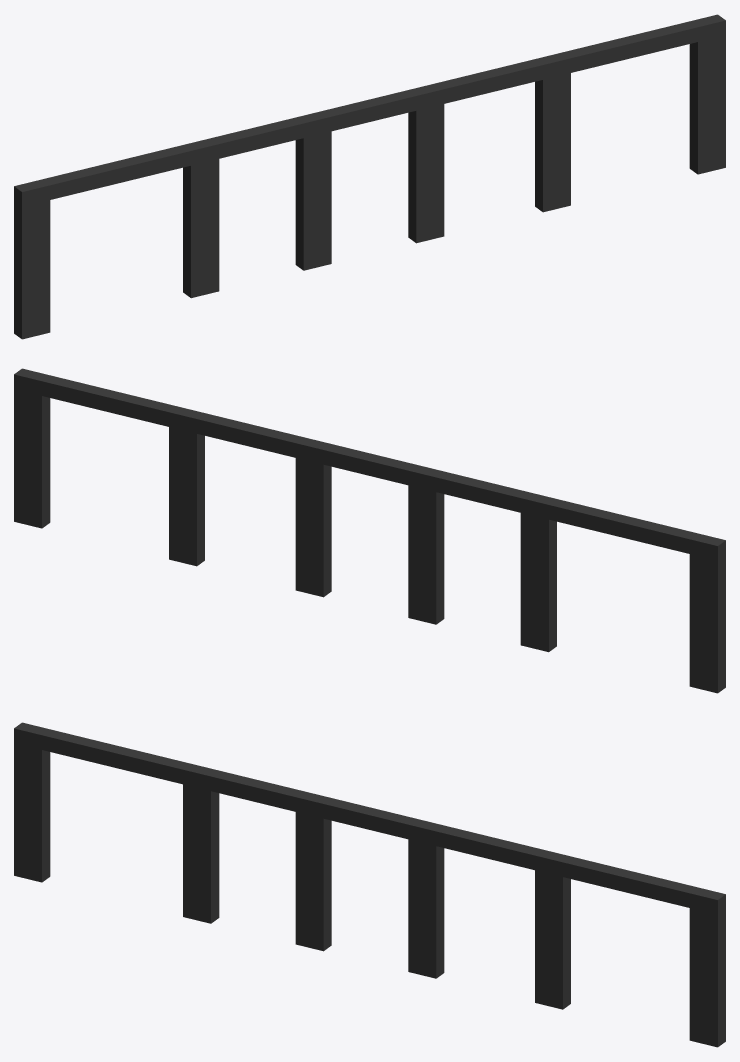
File: fence1.obj
3 views of the same model, one above another, from view 1: azimuth 30°, elevation 25°; view 2: azimuth 150°, elevation 25°; view 3: azimuth 330°, elevation 25° (orthographic).
Bounding box in the file's own units: 5 × 1 × 0.1.
Materials: 1 (1 with a texture image).
